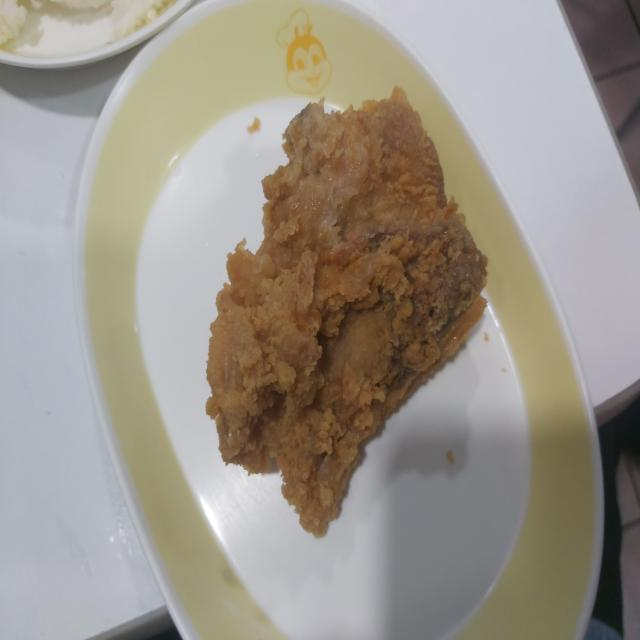Chicken -Fried Chicken-: (198, 72, 490, 553)
